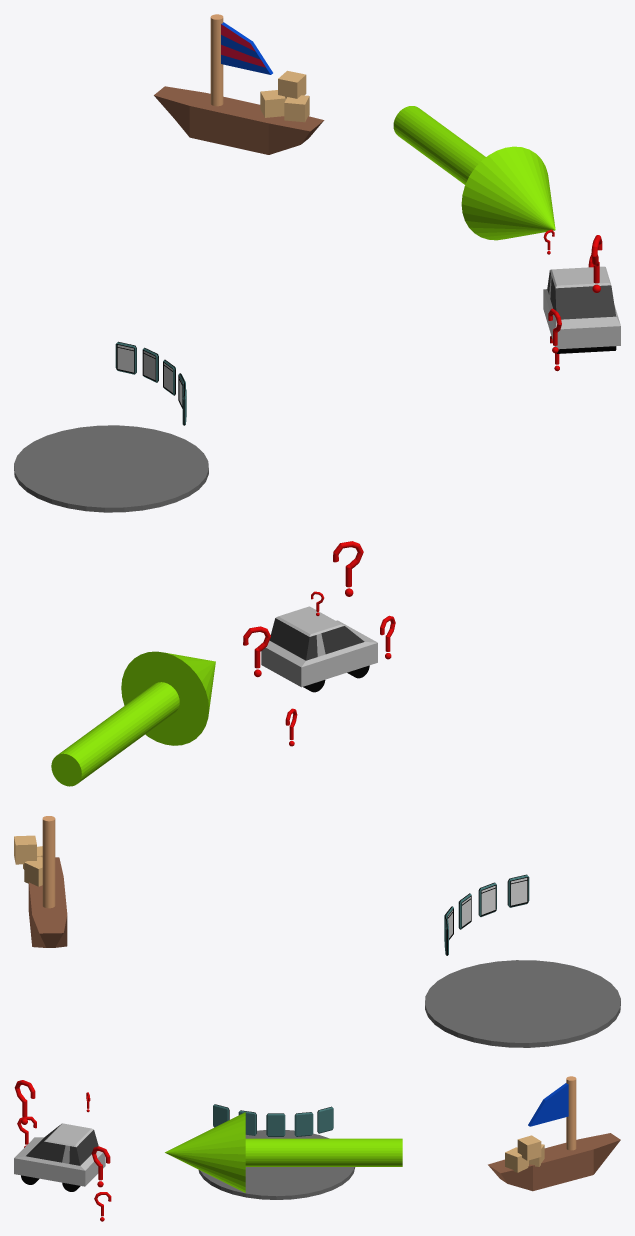
Rendered from Gatex1.glb.
3 renders of one model, top to bottom at view 1: azimuth 30°, elevation 25°; view 2: azimuth 150°, elevation 25°; view 3: azimuth 270°, elevation 25°, orthographic. The views are drawn at different scales.
Parts seen in each view (by area): view 1: Cylinder, Barco, Flecha, Auto, Signos; view 2: Cylinder, Flecha, Auto, Barco, Signos; view 3: Flecha, Barco, Auto, Cylinder, Signos, Tarjeta2, Tarjeta1, Tarjeta5, Tarjeta4, Tarjeta3.
Boxes of the visible parts, box(x1,y1,x2,y2) form: Cylinder: box(14, 425, 208, 512); Barco: box(154, 14, 324, 154); Flecha: box(393, 106, 555, 240); Auto: box(543, 266, 620, 353); Signos: box(543, 229, 602, 371); Cylinder: box(425, 960, 620, 1047); Flecha: box(51, 651, 215, 786); Auto: box(261, 606, 377, 692); Barco: box(14, 816, 67, 947); Signos: box(243, 541, 395, 746); Flecha: box(165, 1112, 402, 1192); Barco: box(488, 1076, 620, 1191); Auto: box(14, 1123, 105, 1191); Cylinder: box(198, 1130, 355, 1199); Signos: box(14, 1080, 111, 1221); Tarjeta2: box(294, 1112, 313, 1136); Tarjeta1: box(266, 1113, 285, 1136); Tarjeta5: box(317, 1106, 333, 1133); Tarjeta4: box(213, 1104, 229, 1127); Tarjeta3: box(238, 1110, 256, 1135).
Size of the model in its own units: 33.17 by 16.84 by 43.
